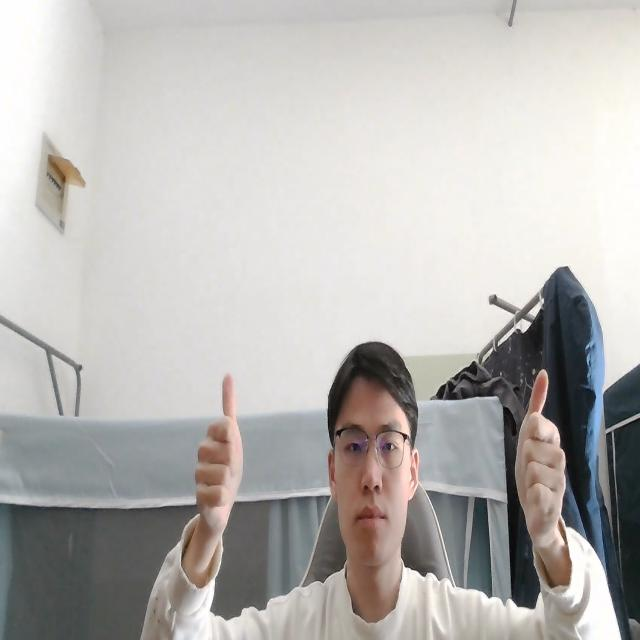good: (513, 363, 567, 551), (192, 367, 246, 547)
